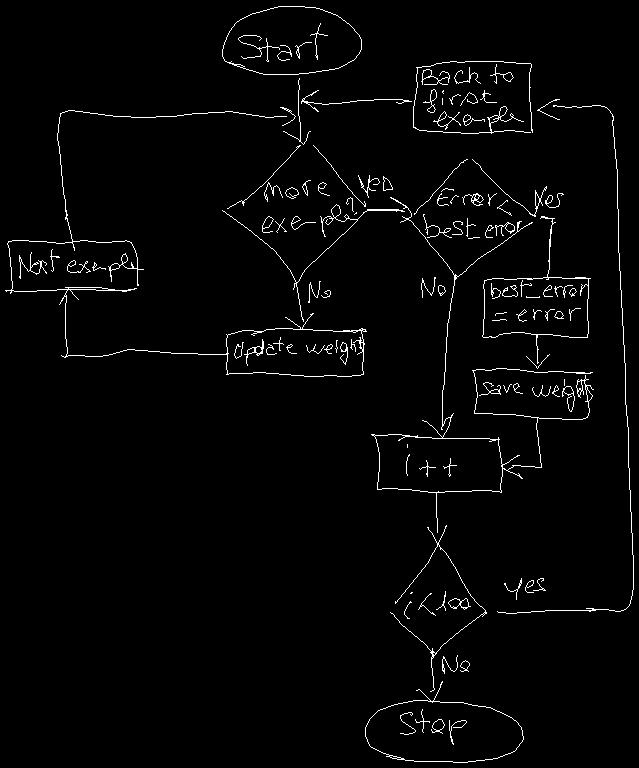arrow: (497, 99, 633, 613), (57, 107, 295, 250), (59, 288, 228, 357), (422, 274, 456, 437), (501, 417, 541, 478), (301, 90, 411, 111), (283, 78, 310, 144), (416, 648, 442, 702), (285, 283, 313, 329), (367, 197, 411, 222), (427, 491, 446, 544), (540, 216, 555, 279), (526, 335, 549, 368)
decision: (222, 145, 369, 283), (402, 159, 535, 279), (390, 543, 486, 659)
process: (413, 61, 532, 133), (371, 434, 502, 492), (5, 240, 138, 293), (226, 328, 366, 376), (482, 277, 590, 337), (472, 368, 592, 419)
terminator: (365, 700, 523, 762), (222, 6, 361, 74)
text: (421, 64, 523, 133), (262, 180, 357, 236), (423, 188, 521, 238), (491, 280, 588, 321), (19, 249, 143, 281), (479, 379, 593, 411), (234, 337, 364, 365), (238, 23, 327, 61), (400, 709, 466, 744), (404, 591, 470, 618), (406, 444, 456, 476), (504, 578, 545, 599), (534, 186, 563, 215), (358, 175, 392, 197), (442, 655, 469, 673), (421, 277, 445, 297), (308, 281, 330, 302)
